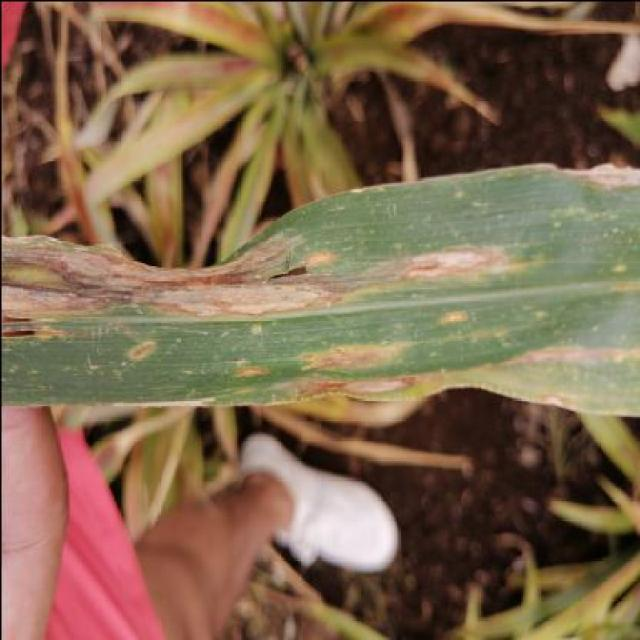Corn_Leaf_Blight: (0, 157, 640, 418)
